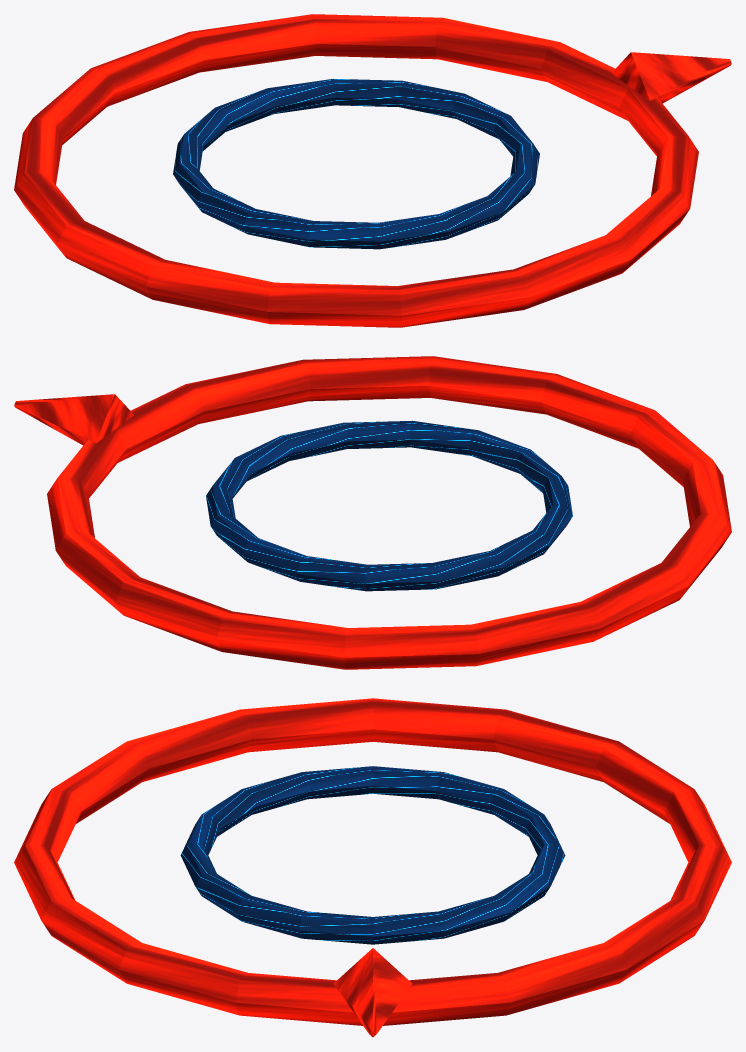
Rendered from SM_FC_AbsorbTelegraph.glb.
3 renders of one model, top to bottom at view 1: azimuth 30°, elevation 25°; view 2: azimuth 150°, elevation 25°; view 3: azimuth 270°, elevation 25°, orthographic. The views are drawn at different scales.
Parts seen in each view (by area): view 1: SM_FC_AbsorbTelegraph; view 2: SM_FC_AbsorbTelegraph; view 3: SM_FC_AbsorbTelegraph.
Part boxes in pixels (x1,y1,x2,y2): SM_FC_AbsorbTelegraph: (14, 14, 731, 327); SM_FC_AbsorbTelegraph: (14, 356, 731, 669); SM_FC_AbsorbTelegraph: (14, 698, 731, 1037).
Size of the model in its own units: 2.04 by 0.2 by 1.81.
2 materials, 2 textured.
